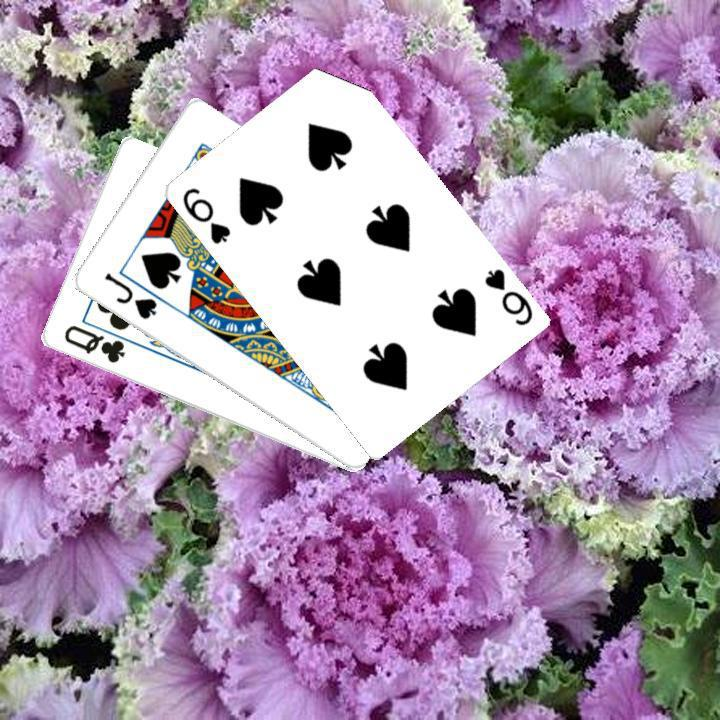6: (479, 264, 535, 328), (177, 183, 232, 246)
J: (99, 268, 159, 322)
Q: (59, 321, 127, 366)
